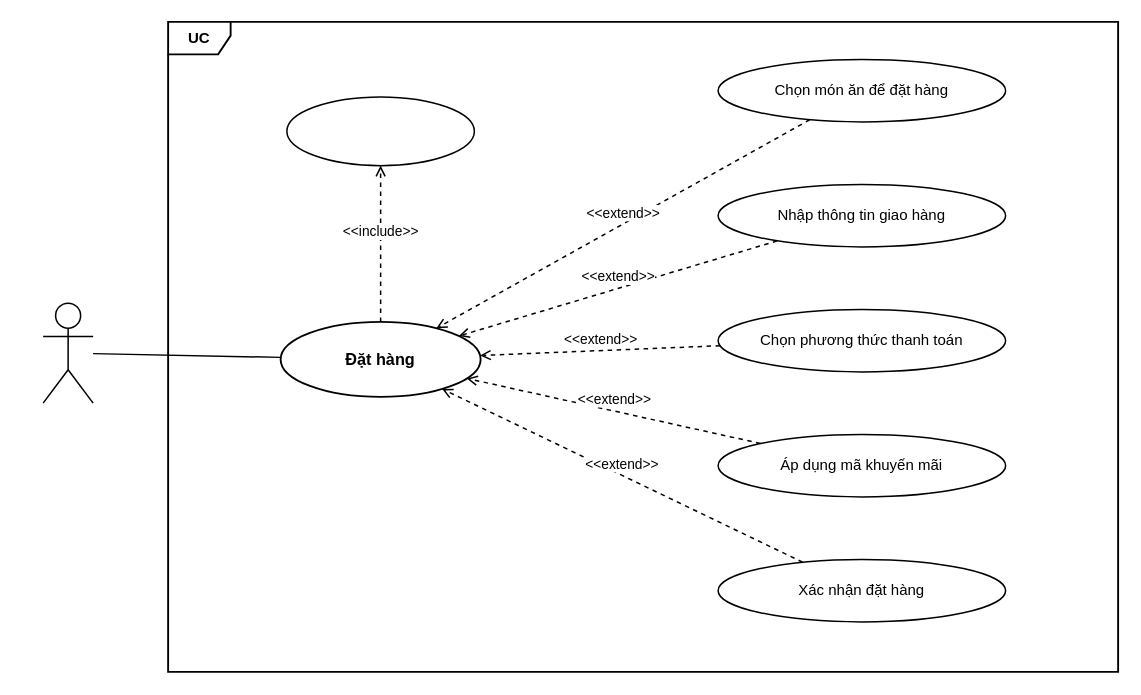
The diagram is 1141 pixels wide and 695 high, and some of its shapes have lost their labels. Here are the shapes that lost their labels. From the top down, the centre of each, then its label:
At (380,131): "Đăng nhập".
At (67,352): "Khách hàng".
